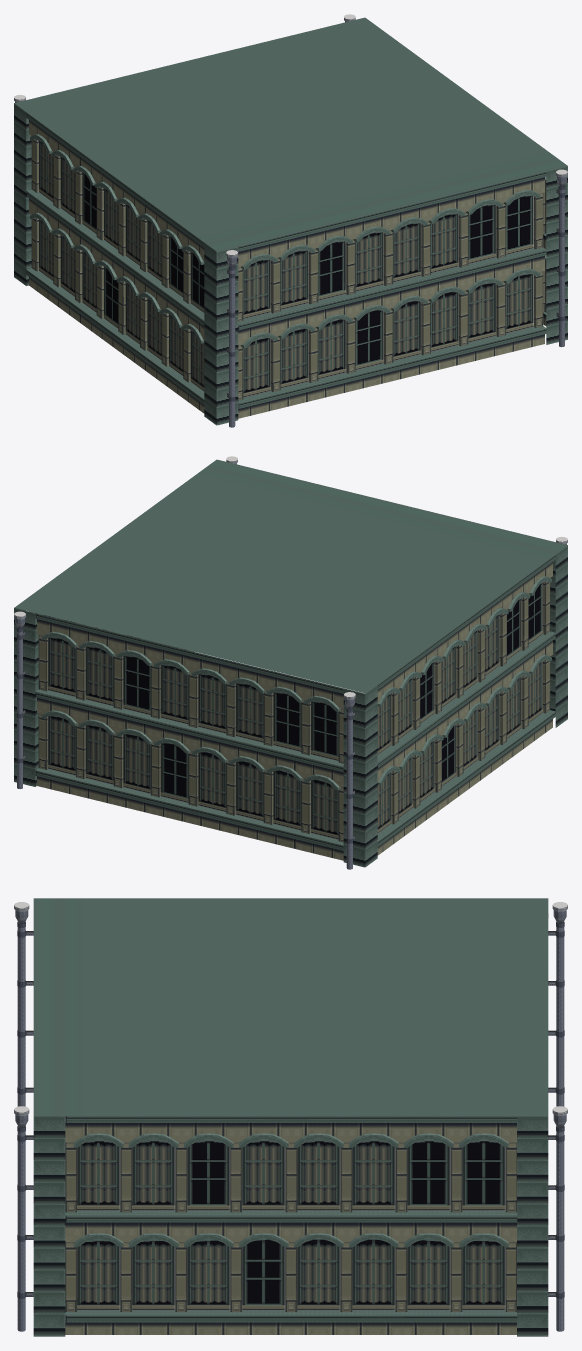
The model's file is Bank.fbx.
3 renders of one model, top to bottom at view 1: azimuth 30°, elevation 25°; view 2: azimuth 150°, elevation 25°; view 3: azimuth 270°, elevation 25°, orthographic. The views are drawn at different scales.
Visible parts, largest first — view 1: bank; view 2: bank; view 3: bank.
Boxes of the visible parts, x1=… form: bank: x1=14, y1=14, x2=567, y2=427; bank: x1=14, y1=456, x2=567, y2=869; bank: x1=14, y1=898, x2=567, y2=1336.
Size of the model in its own units: 67.08 by 31.75 by 72.16.
4 materials, 4 textured.
